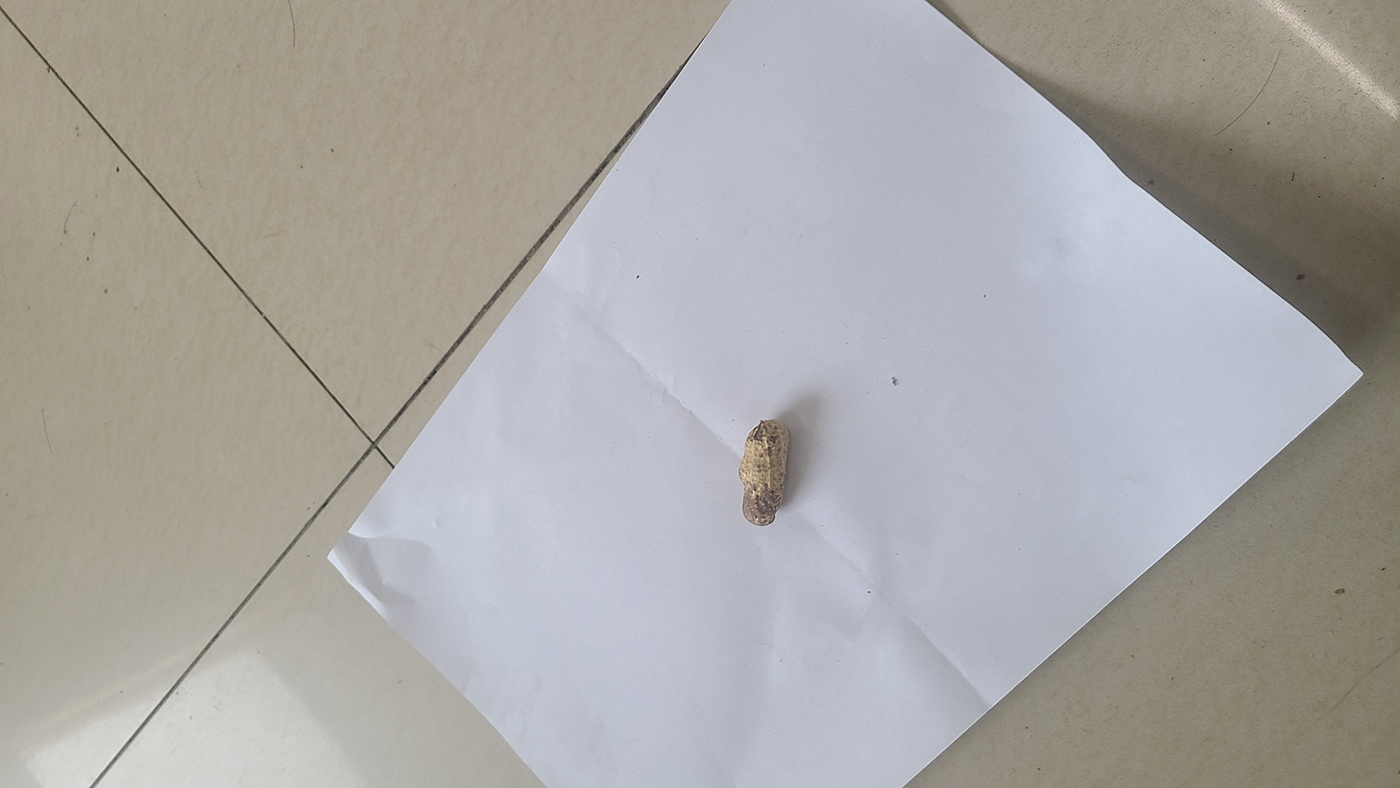h: (737, 417, 792, 529)
